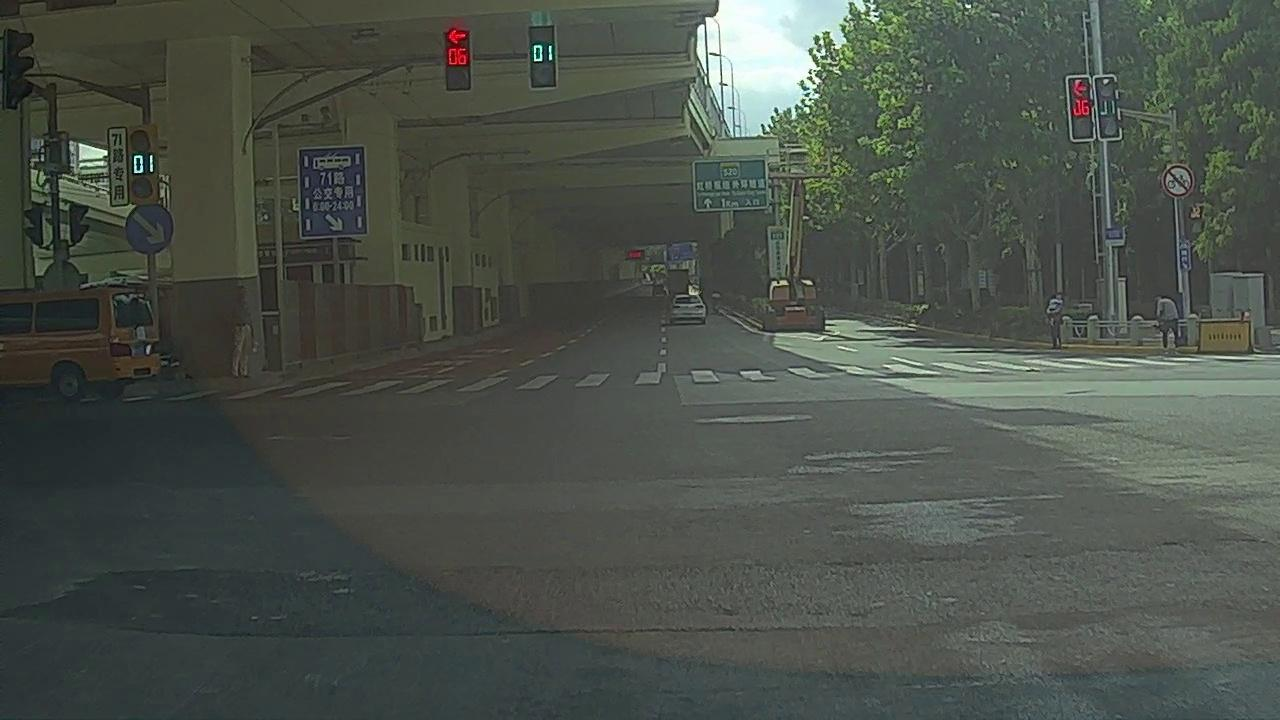traffic_light: (1067, 77, 1096, 141), (1094, 75, 1121, 141), (447, 22, 472, 92), (530, 26, 556, 91)
